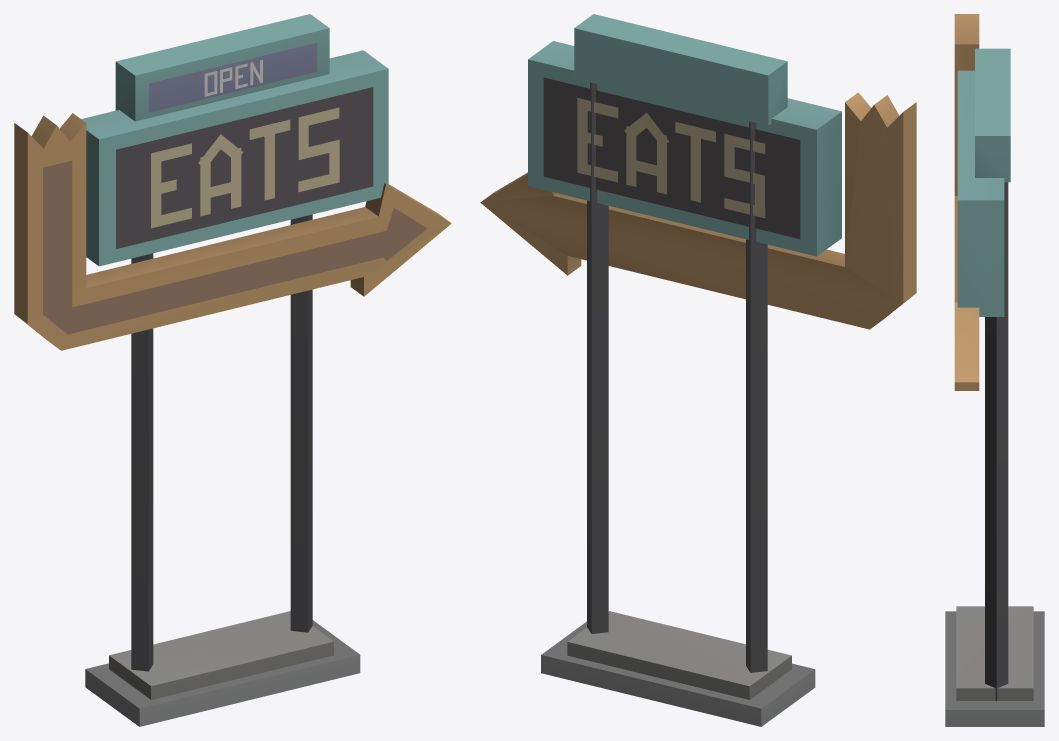
The model's file is dsign.lod1.glb.
3 renders of one model, left to right at view 1: azimuth 30°, elevation 25°; view 2: azimuth 150°, elevation 25°; view 3: azimuth 270°, elevation 25°, orthographic. The views are drawn at different scales.
Bounding box in the file's own units: 2.9 × 4.16 × 0.6401.
